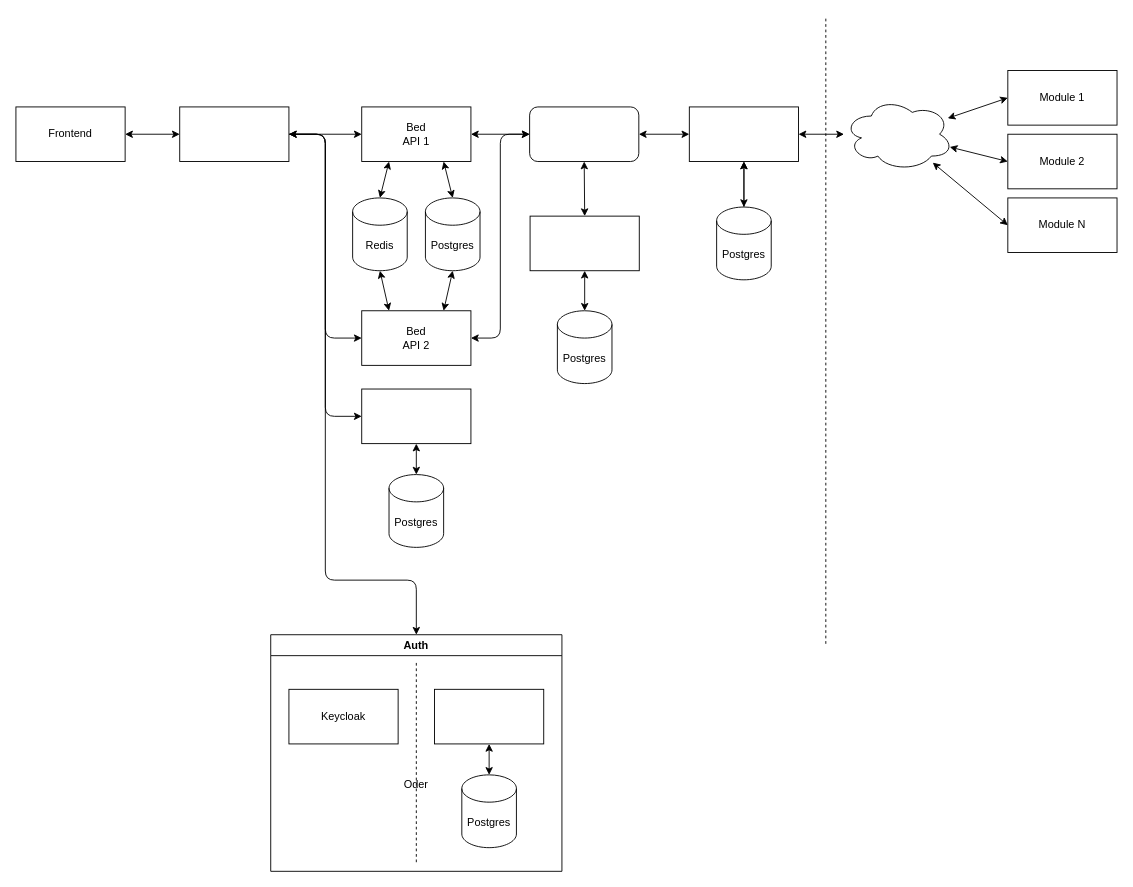
This 1133x887 diagram has some shape labels left out. The centre of each missing label's shape, as x and y in pixels:
"API Gateway" belongs at point 234,134.
"Auth API" belongs at point 489,716.
"AutomationService" belongs at point 584,243.
"ConnectionService" belongs at point 743,134.
"MQTT" belongs at point 898,134.
"Plant API" belongs at point 416,416.
"RabbitMQ" belongs at point 584,134.
